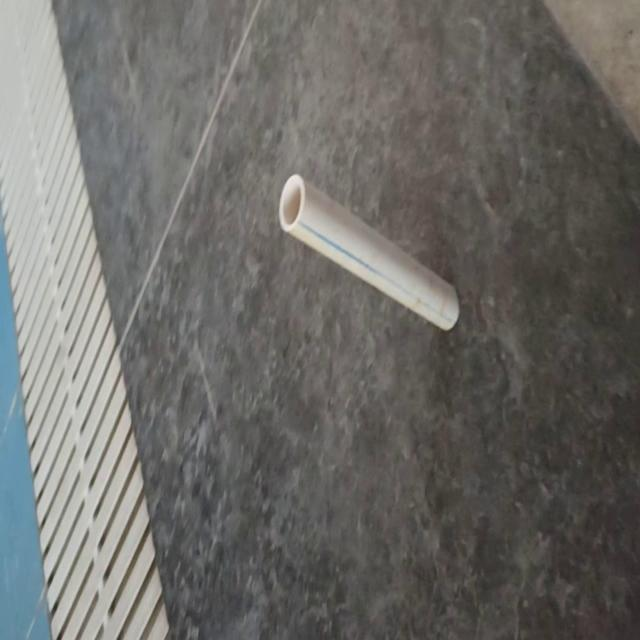Cube: (278, 170, 460, 332)
